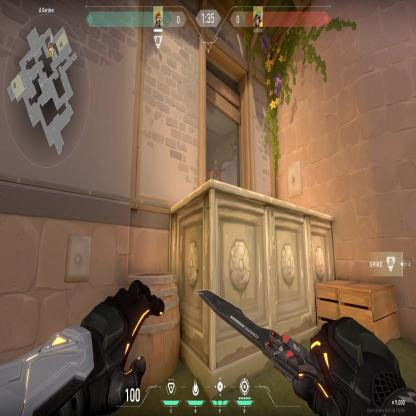enemy: (210, 158, 223, 184)
